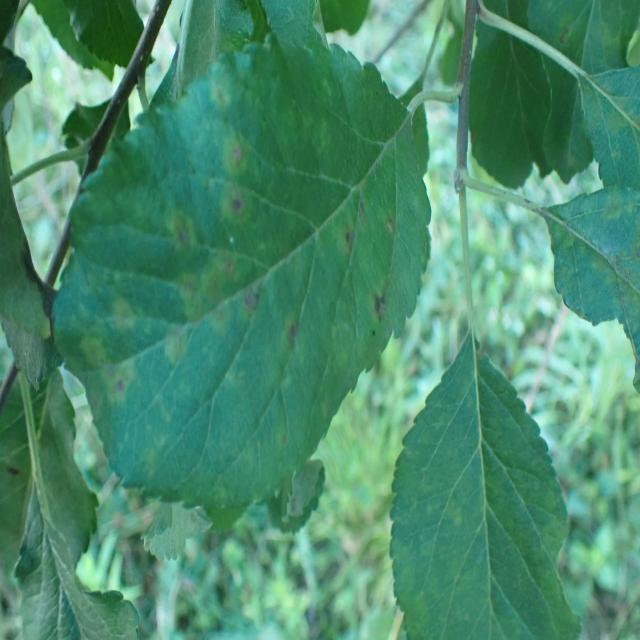scab: (74, 126, 414, 443)
